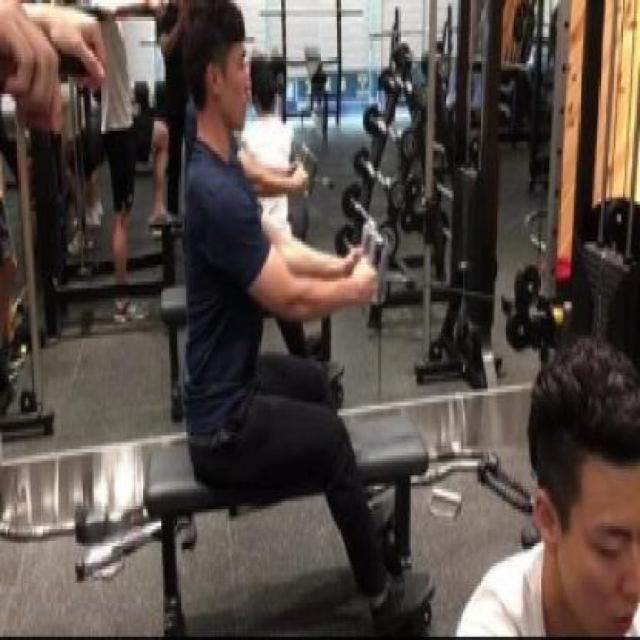Seated Cable Rows: (87, 0, 640, 618)
